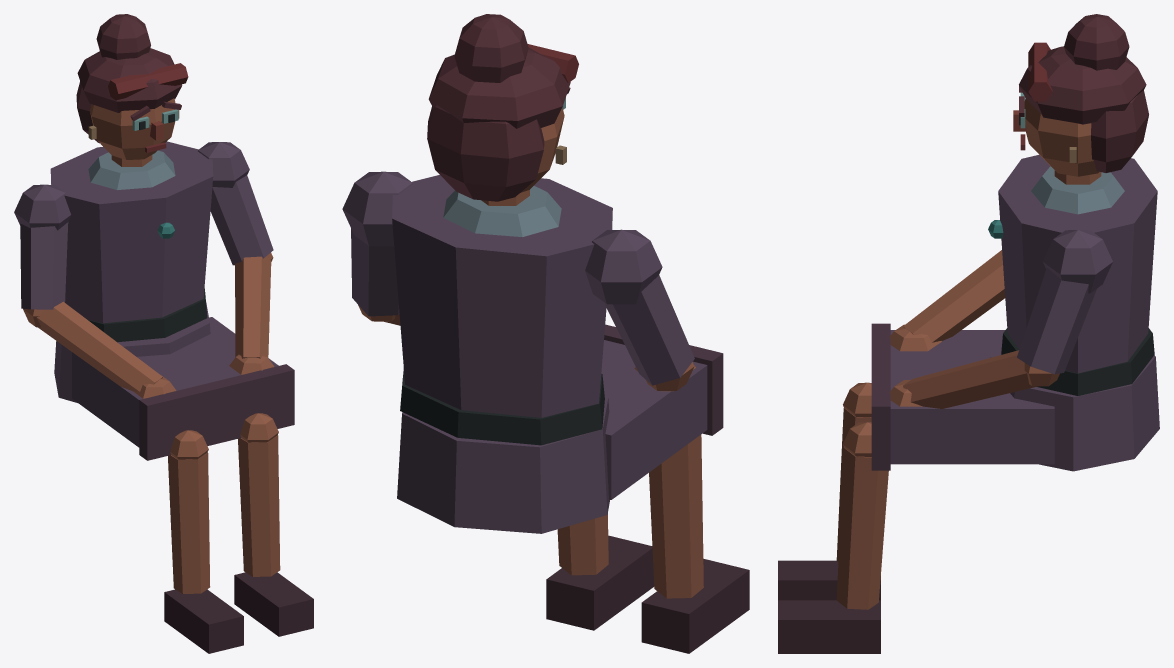
File: mama_banca.glb
3 renders of one model, left to right at view 1: azimuth 30°, elevation 25°; view 2: azimuth 150°, elevation 25°; view 3: azimuth 270°, elevation 25°, orthographic. The views are drawn at different scales.
Visible parts, largest first — view 1: Corp, Cap; view 2: Corp, Cap; view 3: Corp, Cap.
Boxes of the visible parts, <box> form: Corp: <box>14,141,313,653</box>; Cap: <box>76,14,188,159</box>; Corp: <box>342,171,749,653</box>; Cap: <box>427,14,578,201</box>; Corp: <box>778,155,1159,653</box>; Cap: <box>1013,14,1148,176</box>.
Size of the model in its own units: 0.6932 by 1.43 by 0.8149.
